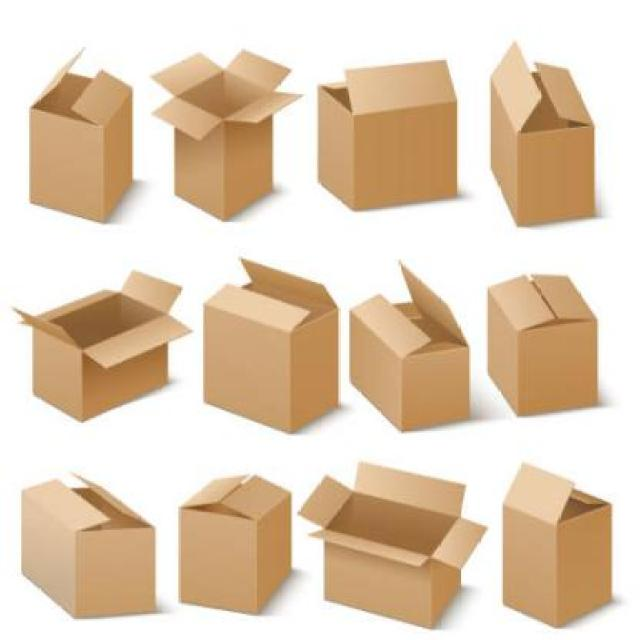box: (296, 460, 492, 640), (151, 20, 307, 230), (2, 260, 193, 430), (198, 235, 342, 460), (313, 32, 465, 220), (346, 263, 480, 476), (482, 34, 612, 251), (17, 468, 171, 640), (484, 253, 618, 442), (500, 459, 625, 633), (177, 468, 300, 640), (24, 47, 139, 222)
